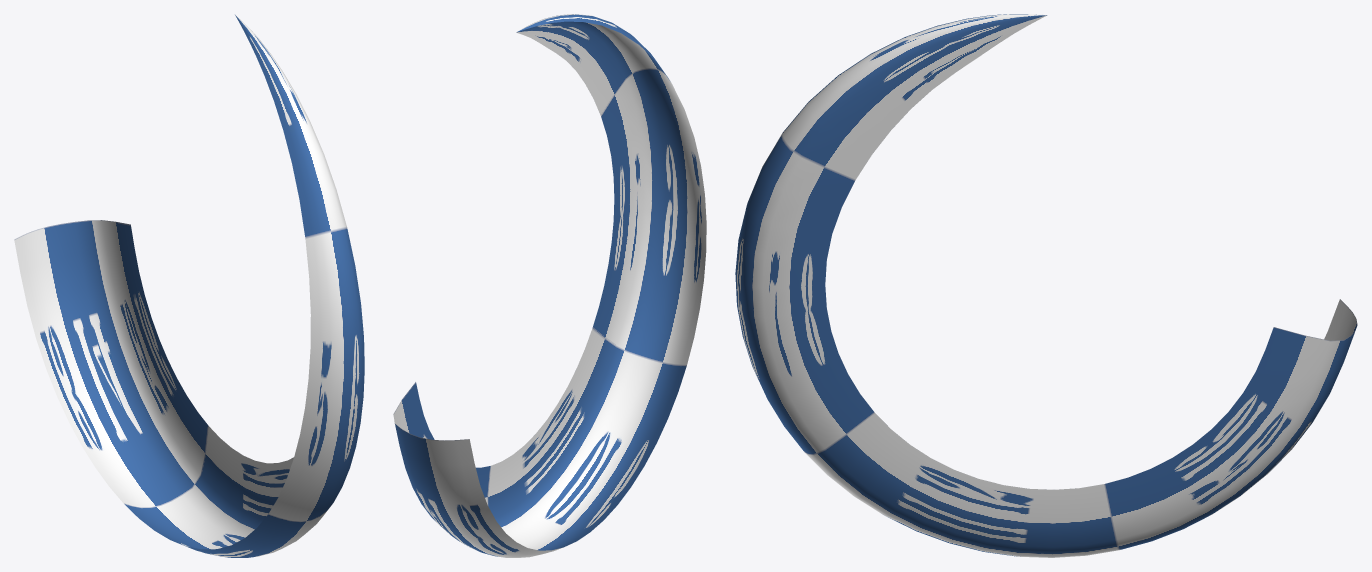
File: Wind6.fbx
3 renders of one model, left to right at view 1: azimuth 30°, elevation 25°; view 2: azimuth 150°, elevation 25°; view 3: azimuth 270°, elevation 25°, orthographic. The views are drawn at different scales.
Visible parts, largest first — view 1: SM_e_Useful_Wind009_L; view 2: SM_e_Useful_Wind009_L; view 3: SM_e_Useful_Wind009_L.
Boxes of the visible parts, <box> form: SM_e_Useful_Wind009_L: <box>14,15,364,557</box>; SM_e_Useful_Wind009_L: <box>393,14,706,557</box>; SM_e_Useful_Wind009_L: <box>735,14,1357,557</box>.
Size of the model in its own units: 20.46 by 116 by 117.
